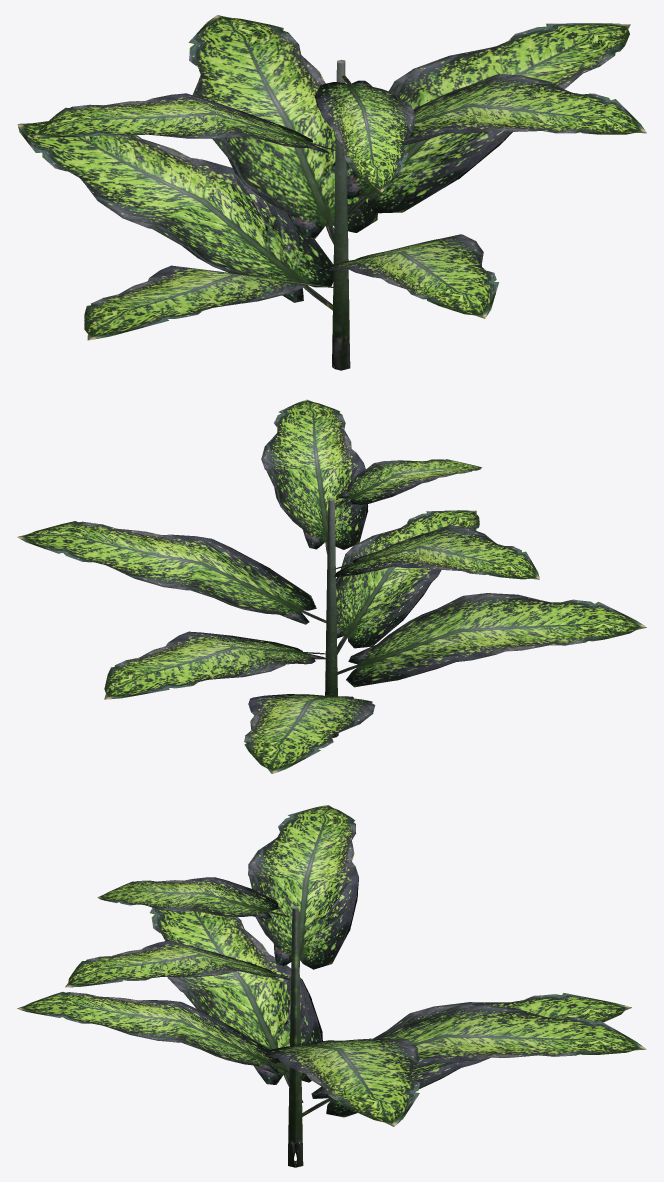
Rendered from bush3_2s.fbx.
The picture shows the model from 3 angles, top to bottom: view 1: azimuth 30°, elevation 25°; view 2: azimuth 150°, elevation 25°; view 3: azimuth 270°, elevation 25°; orthographic projection. The views are drawn at different scales.
Parts seen in each view (by area): view 1: MDL-Camera_Root; view 2: MDL-Camera_Root; view 3: MDL-Camera_Root.
Part boxes in pixels (x1,y1,x2,y2): MDL-Camera_Root: [17, 15, 646, 370]; MDL-Camera_Root: [17, 399, 646, 773]; MDL-Camera_Root: [17, 805, 646, 1167].
Size of the model in its own units: 375 by 161 by 359.
